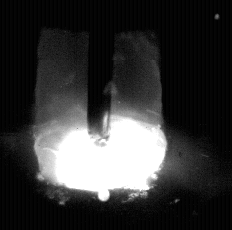arame: (88, 0, 111, 140)
poca: (33, 0, 169, 230)
